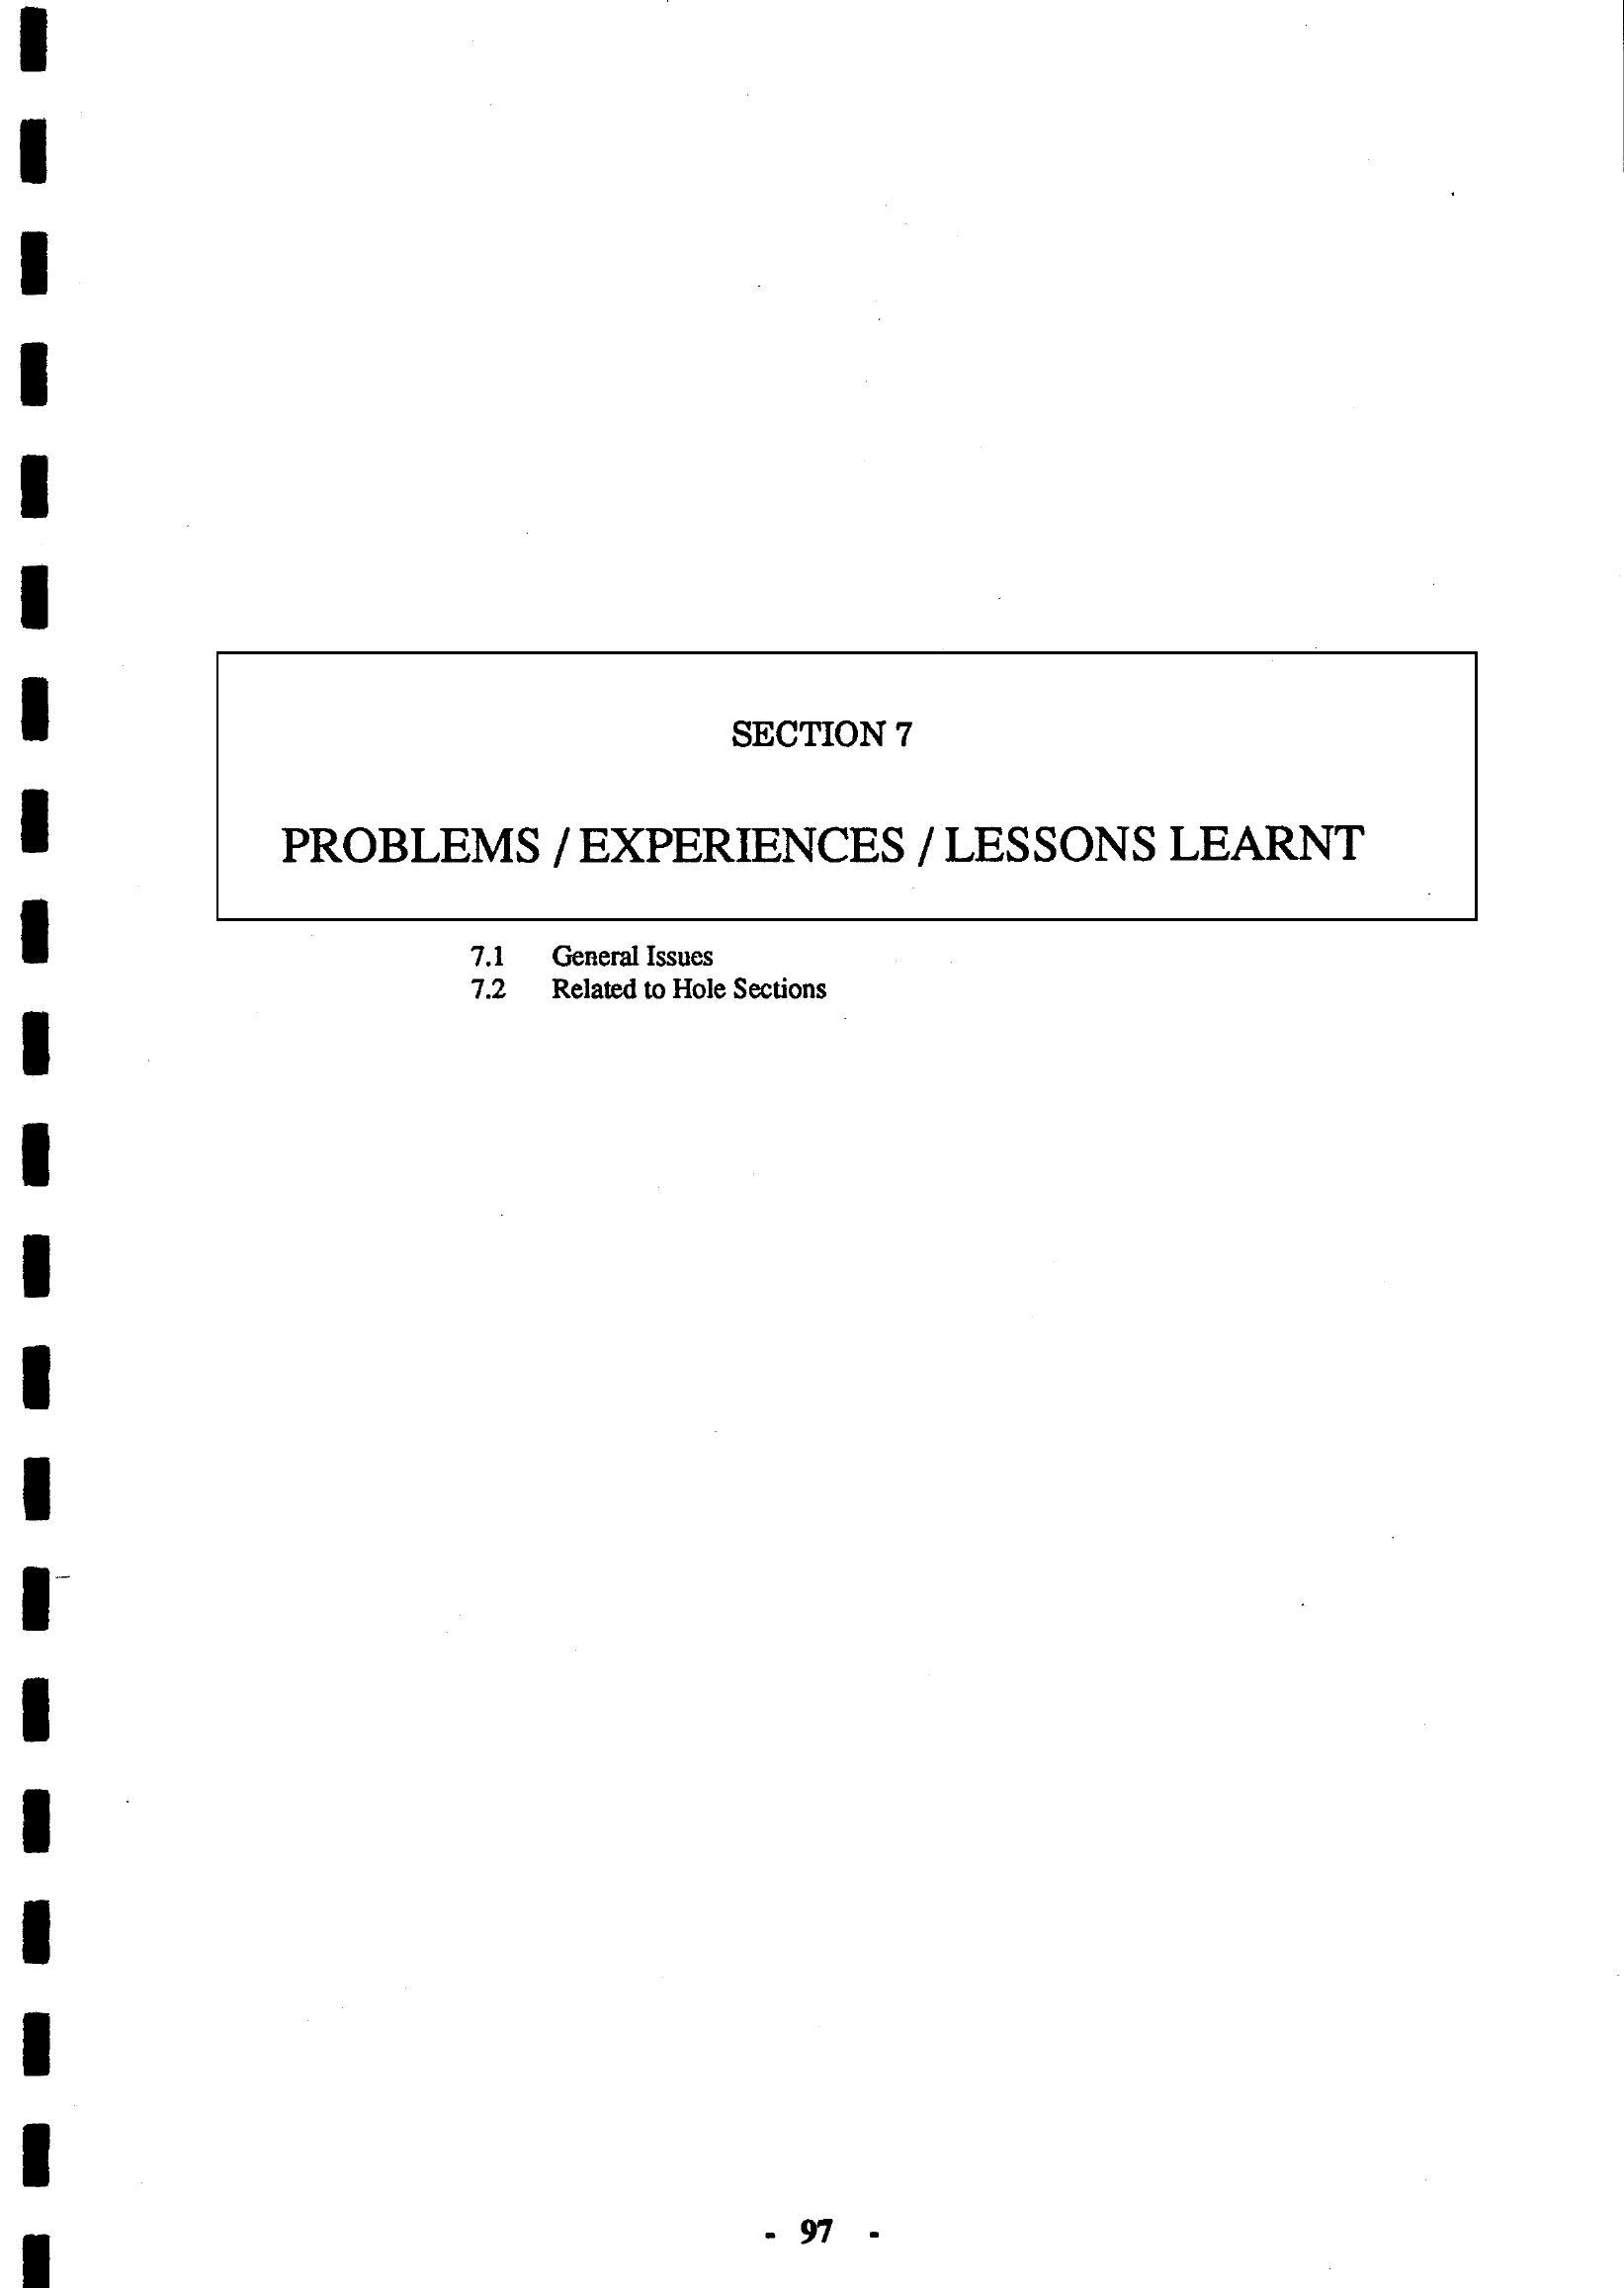text: (199, 608, 1501, 1070)
